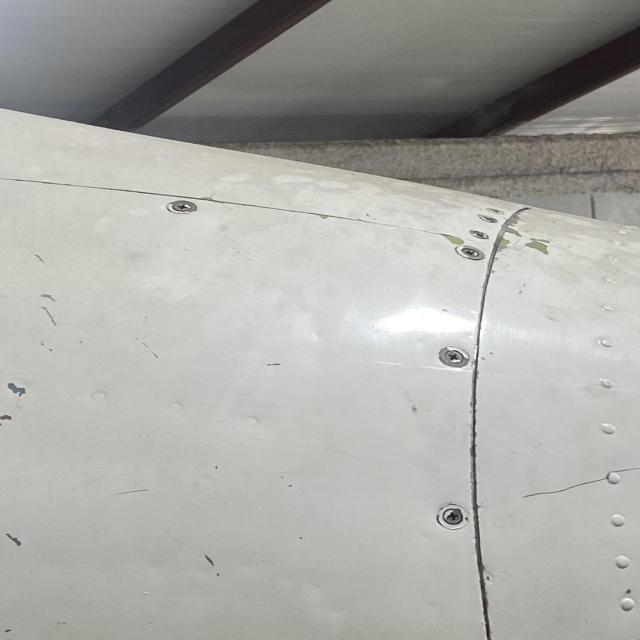Paint-off: (37, 294, 57, 327), (493, 235, 510, 263), (203, 555, 222, 578), (526, 237, 550, 255), (37, 291, 58, 306), (2, 532, 23, 547), (440, 233, 464, 245), (504, 224, 524, 238), (5, 383, 25, 396), (30, 253, 45, 264), (0, 414, 11, 424)
Scratch: (523, 457, 640, 498), (110, 488, 149, 498)
